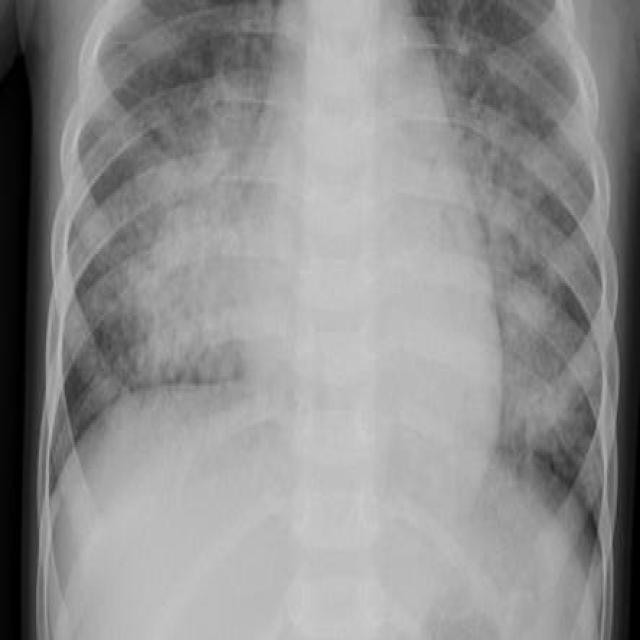high-pneumonia: (124, 57, 271, 375)
low-pneumonia: (441, 1, 579, 449)
